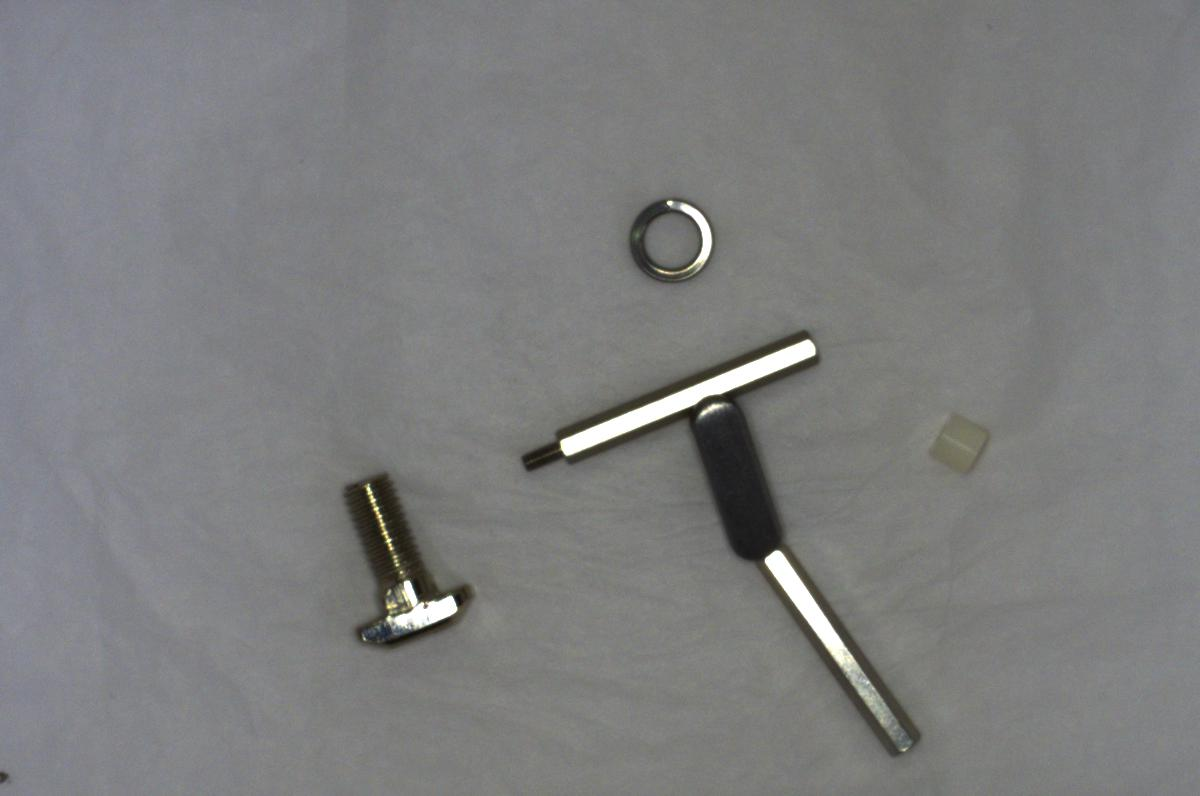Double hexagonal column: (756, 537, 929, 767)
Hexagonal steel column: (514, 331, 838, 477)
Keybar: (684, 390, 800, 569)
Plastic cushion pillar: (920, 405, 992, 483)
Spring washer: (623, 189, 726, 301)
T-shaped screw: (323, 460, 491, 654)
